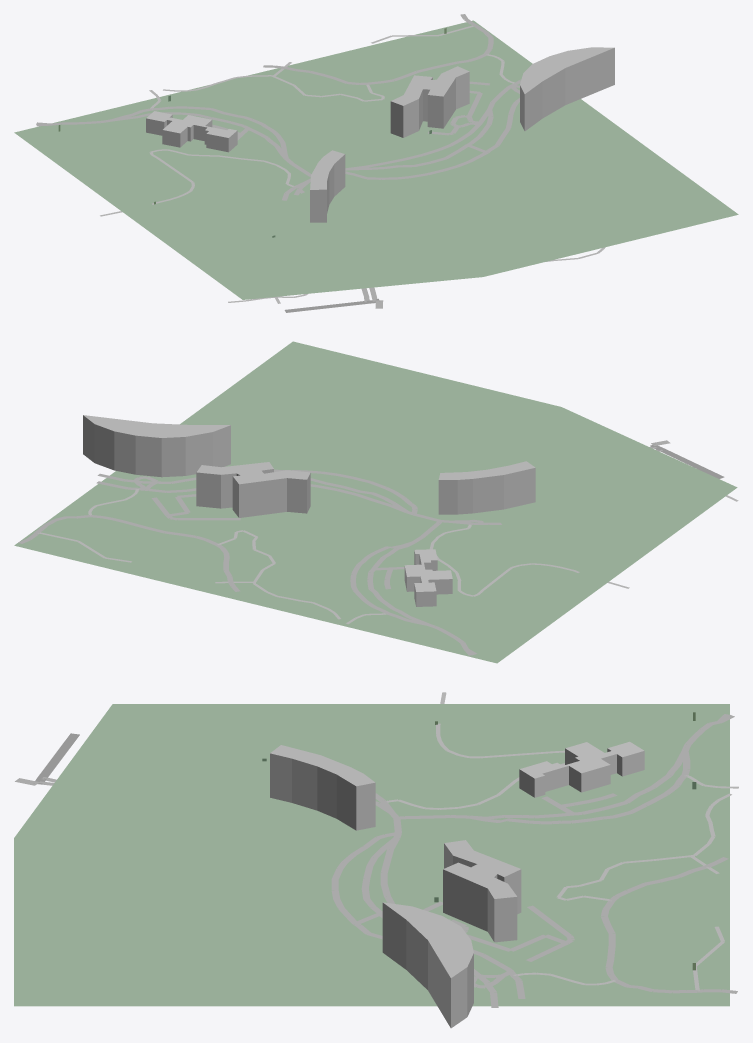
The picture shows the model from 3 angles, top to bottom: view 1: azimuth 30°, elevation 25°; view 2: azimuth 150°, elevation 25°; view 3: azimuth 270°, elevation 25°; orthographic projection. The views are drawn at different scales.
Bounding box in the file's own units: 563 × 49.5 × 506.
